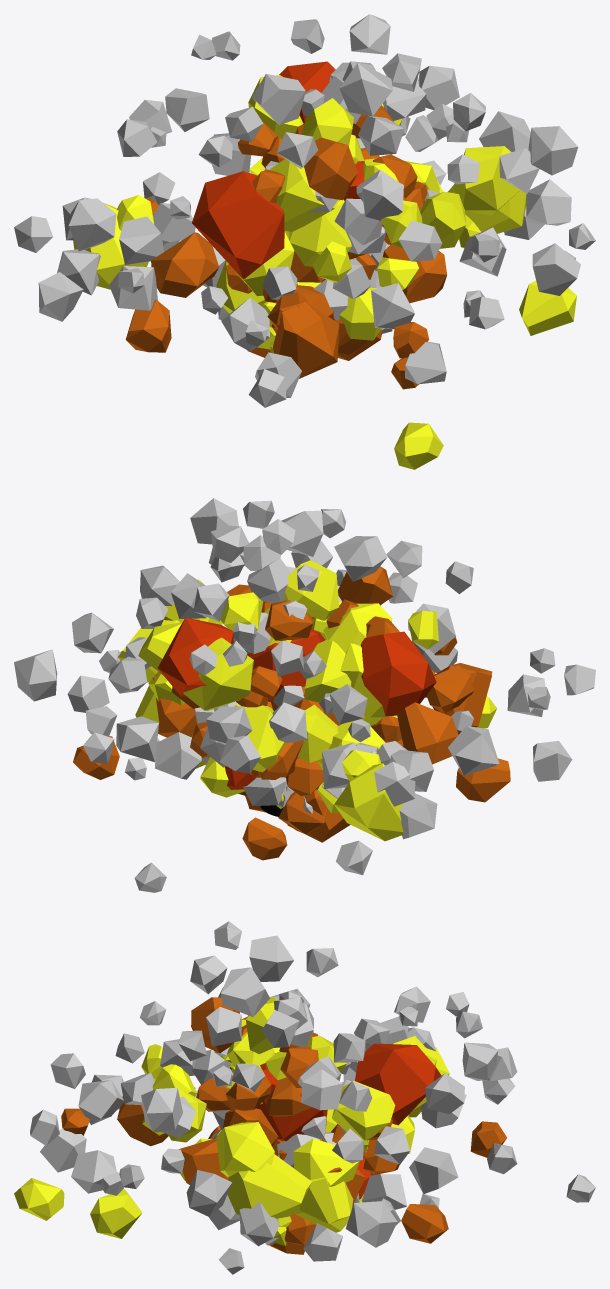
File: Explosion0037.obj
3 renders of one model, top to bottom at view 1: azimuth 30°, elevation 25°; view 2: azimuth 150°, elevation 25°; view 3: azimuth 270°, elevation 25°, orthographic. The views are drawn at different scales.
Visible parts, largest first — view 1: Cube_Material, Cube.002_Material.003, Cube.001_Material.002, Cube.003_Material.004; view 2: Cube_Material, Cube.002_Material.003, Cube.001_Material.002, Cube.003_Material.004; view 3: Cube_Material, Cube.002_Material.003, Cube.001_Material.002, Cube.003_Material.004.
Boxes of the visible parts, x1=… form: Cube_Material: x1=14, y1=14, x2=595, y2=407; Cube.002_Material.003: x1=73, y1=75, x2=576, y2=469; Cube.001_Material.002: x1=125, y1=105, x2=447, y2=389; Cube.003_Material.004: x1=192, y1=61, x2=364, y2=279; Cube_Material: x1=14, y1=498, x2=595, y2=892; Cube.002_Material.003: x1=118, y1=560, x2=496, y2=841; Cube.001_Material.002: x1=73, y1=566, x2=510, y2=860; Cube.003_Material.004: x1=157, y1=617, x2=436, y2=789; Cube_Material: x1=30, y1=921, x2=595, y2=1274; Cube.002_Material.003: x1=14, y1=997, x2=449, y2=1245; Cube.001_Material.002: x1=61, y1=997, x2=506, y2=1254; Cube.003_Material.004: x1=230, y1=1043, x2=441, y2=1206.
Bounding box in the file's own units: 16.6 × 9.66 × 17.2.
